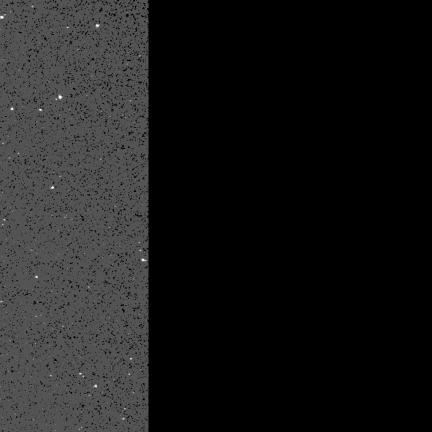blob: (58, 95, 63, 100), (11, 107, 15, 111), (141, 259, 146, 262), (96, 25, 100, 28), (0, 16, 4, 19), (35, 276, 39, 279), (51, 187, 55, 189)
